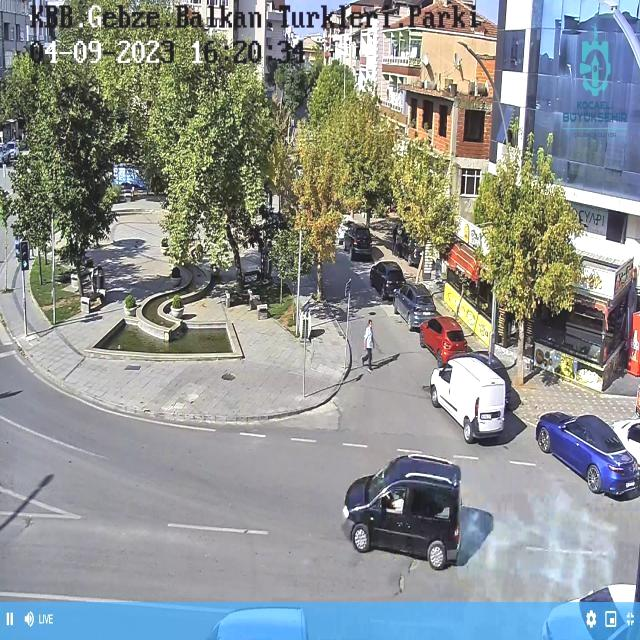Car: (336, 449, 470, 567), (538, 401, 640, 498), (414, 313, 472, 358), (367, 256, 404, 303), (398, 280, 433, 326), (340, 222, 373, 260)
Van: (417, 350, 508, 441)
